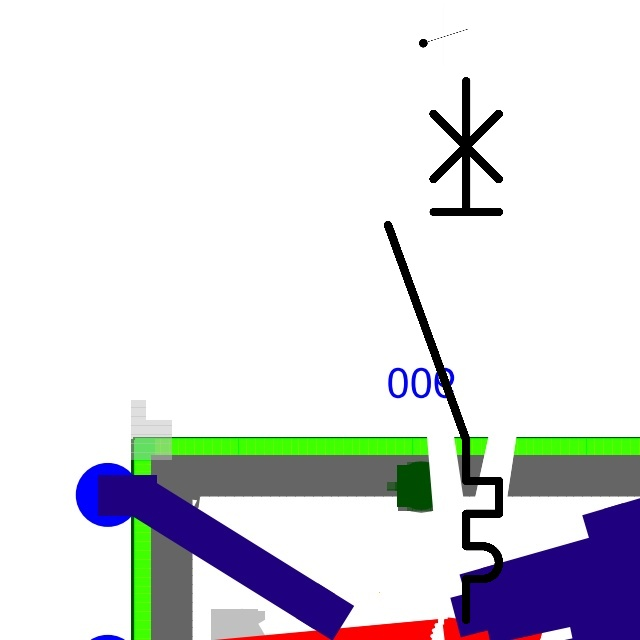interruptor_termomagnetico: (374, 67, 513, 634)
